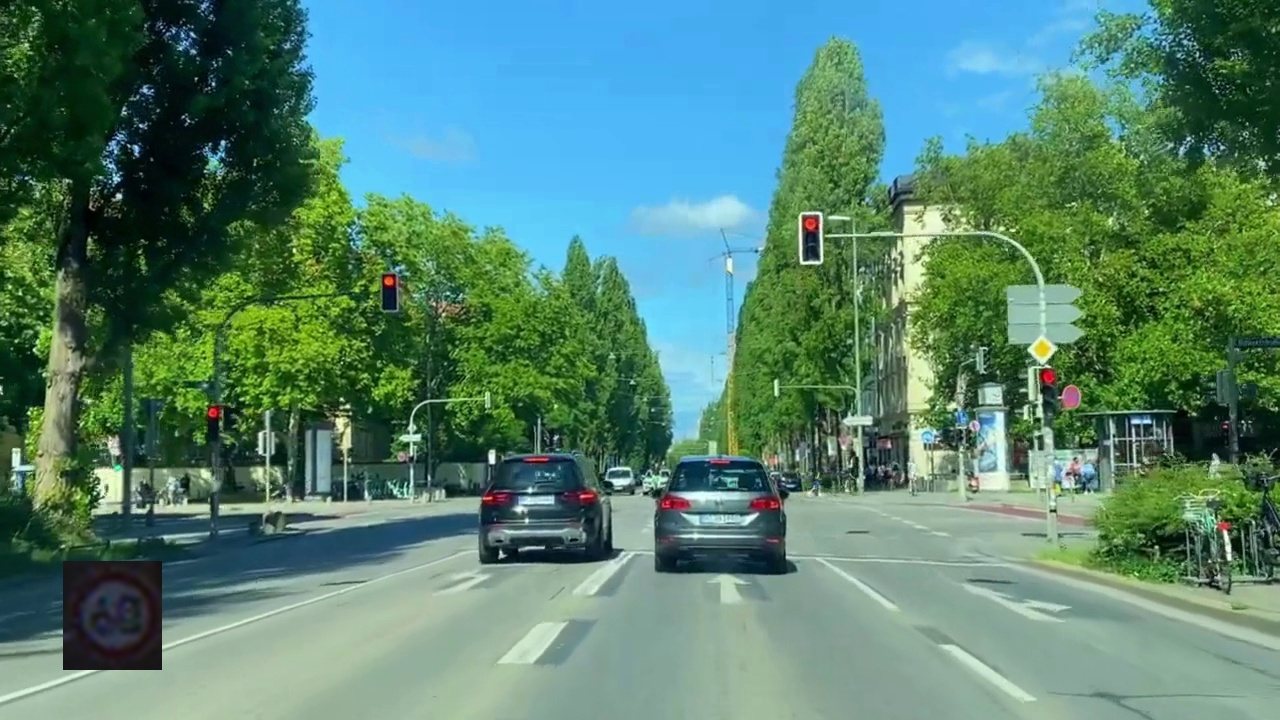Speed 60: (63, 561, 162, 670)
